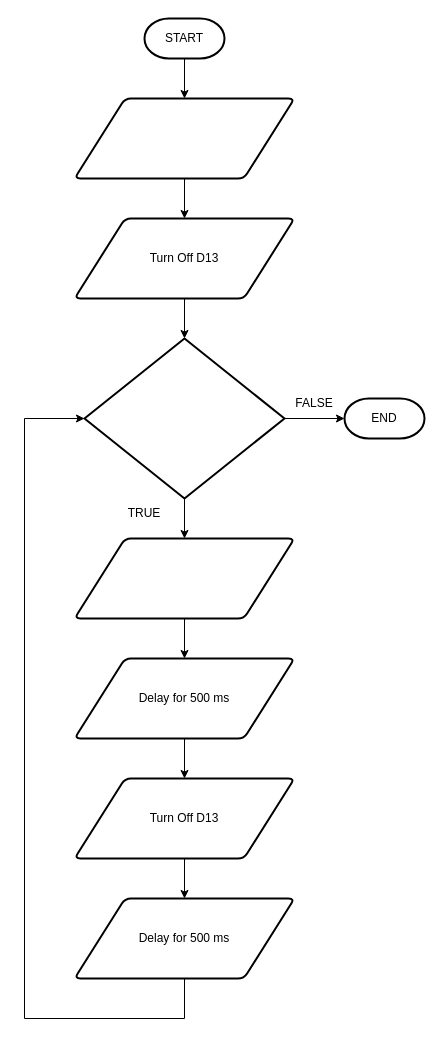
The diagram is 443 pixels wide and 1044 high, and some of its shapes have lost their labels. The centre of each missing label's shape, as x and y in pixels:
Declare D13 as OUTPUT: (184,138)
Turn On D13: (184,578)
While Project is turned on...: (184,418)
